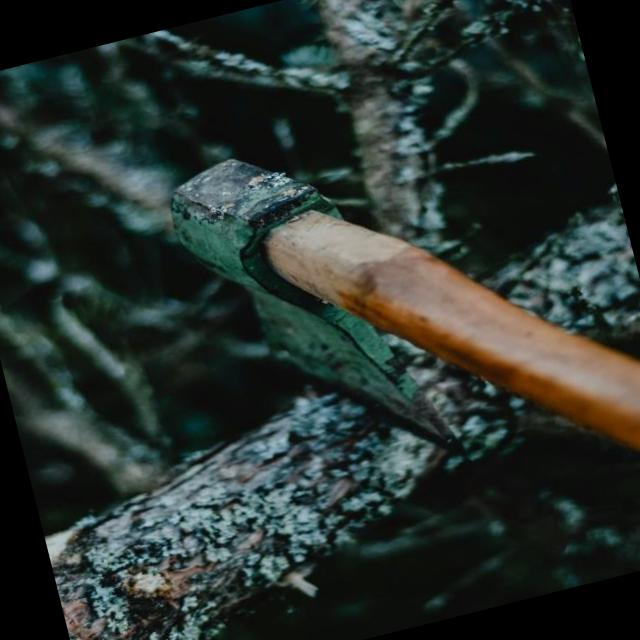Axe: (171, 159, 640, 449)
